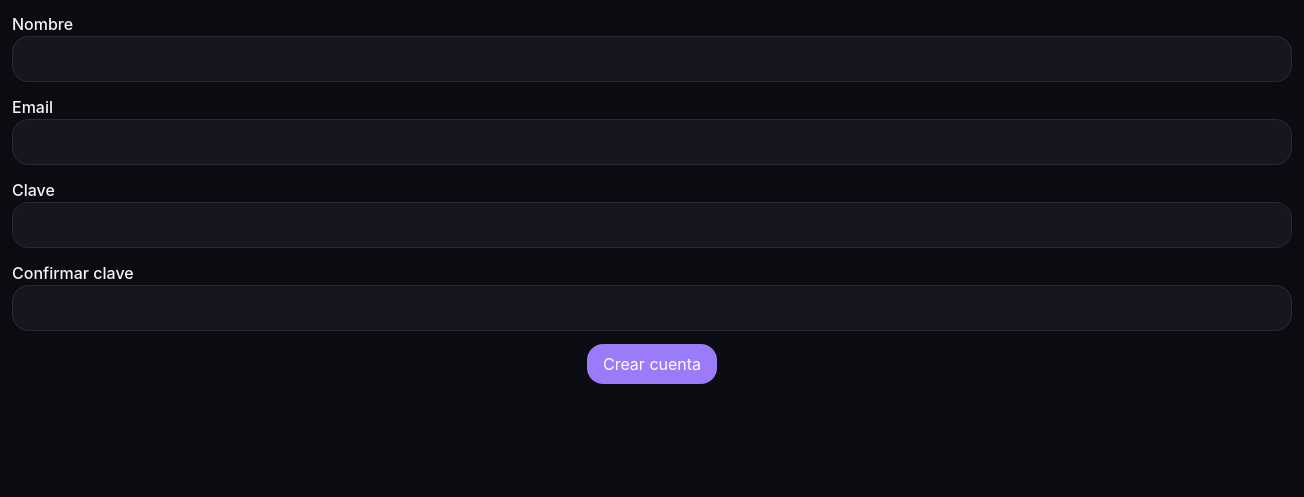
Test: RegisterForm › RegisterForm muestra un error por campo si faltan datos obligatorios (valida AC-06)
Click the button "Crear cuenta" at (652, 364), box [587,344,717,384]
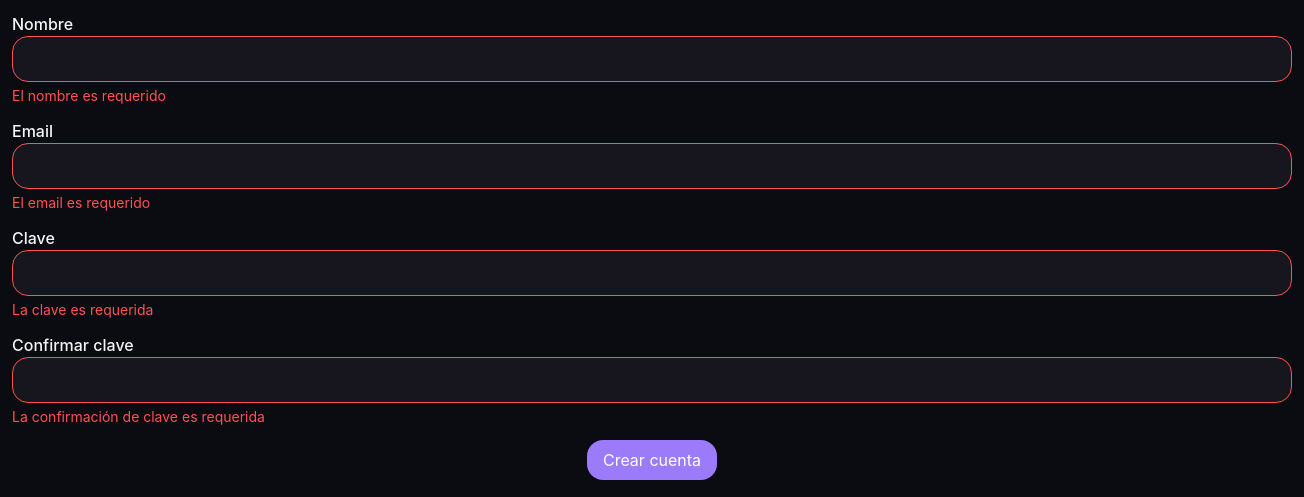
Check: the text "El nombre es requerido" is shown, box [12,87,166,104]
Check: the text "El email es requerido" is shown, box [12,194,150,211]
Check: the text "La clave es requerida" is shown, box [12,301,153,318]
